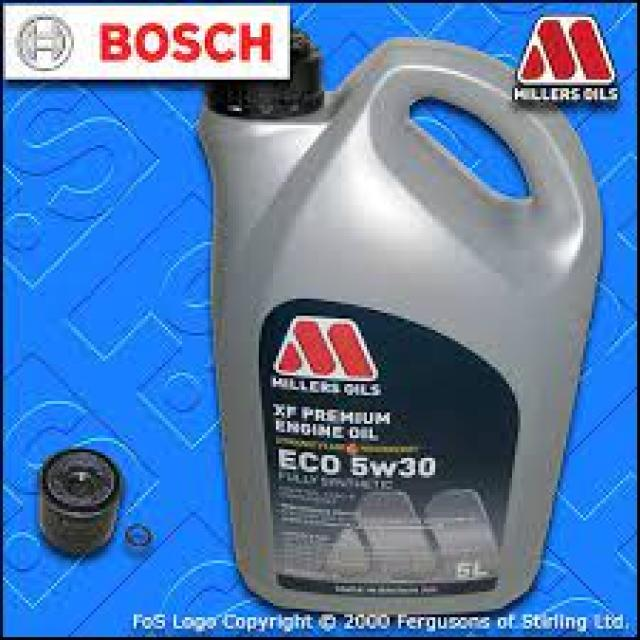motor_oil: (208, 46, 602, 620)
oil_filter: (31, 449, 161, 554)
